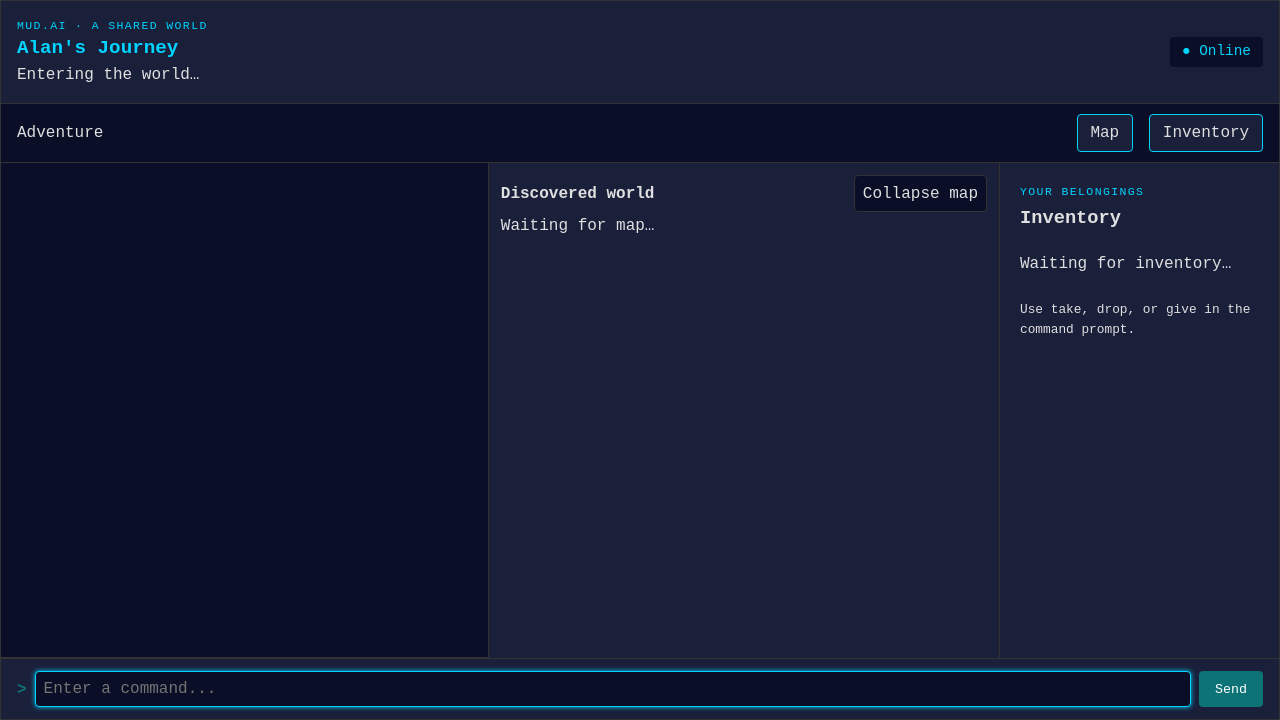
Test: Terminal › toggles safe structured debug output locally
Type "/debug on" into the field with test id "command-input" at [613, 689], box [35,671,1191,707]
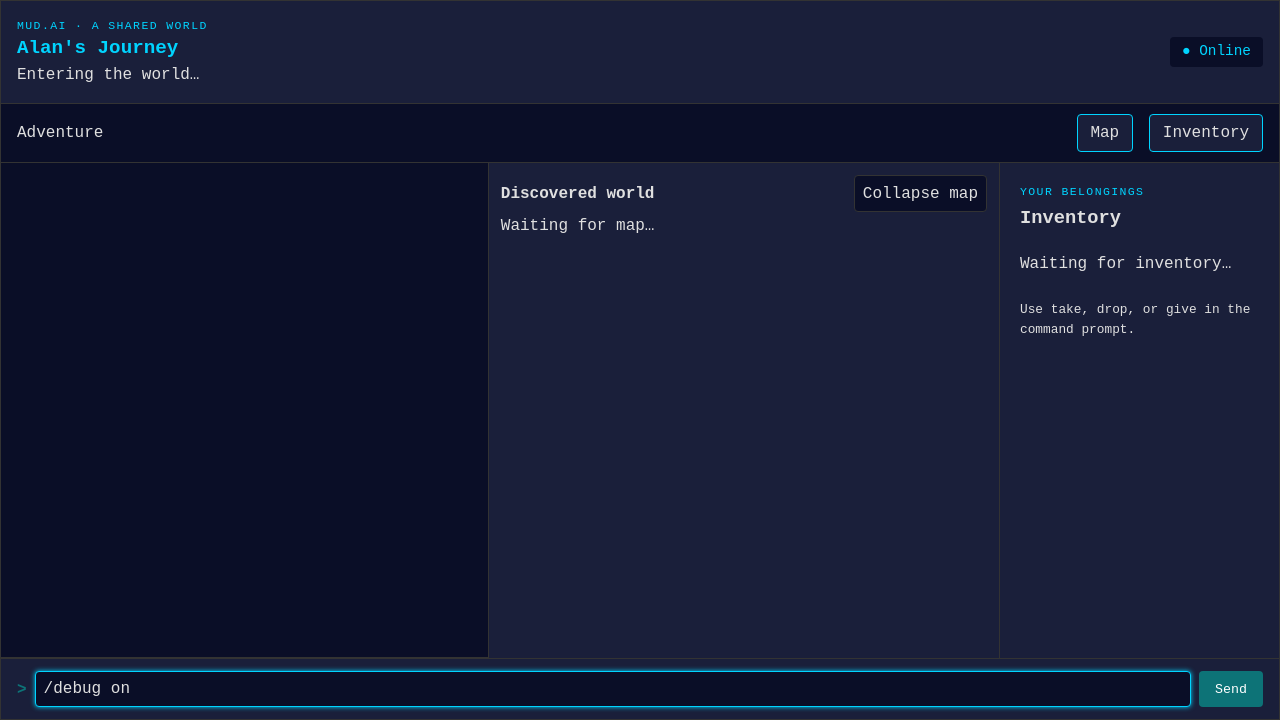
Submit the form with test id "command-input", box [1,658,1279,719]
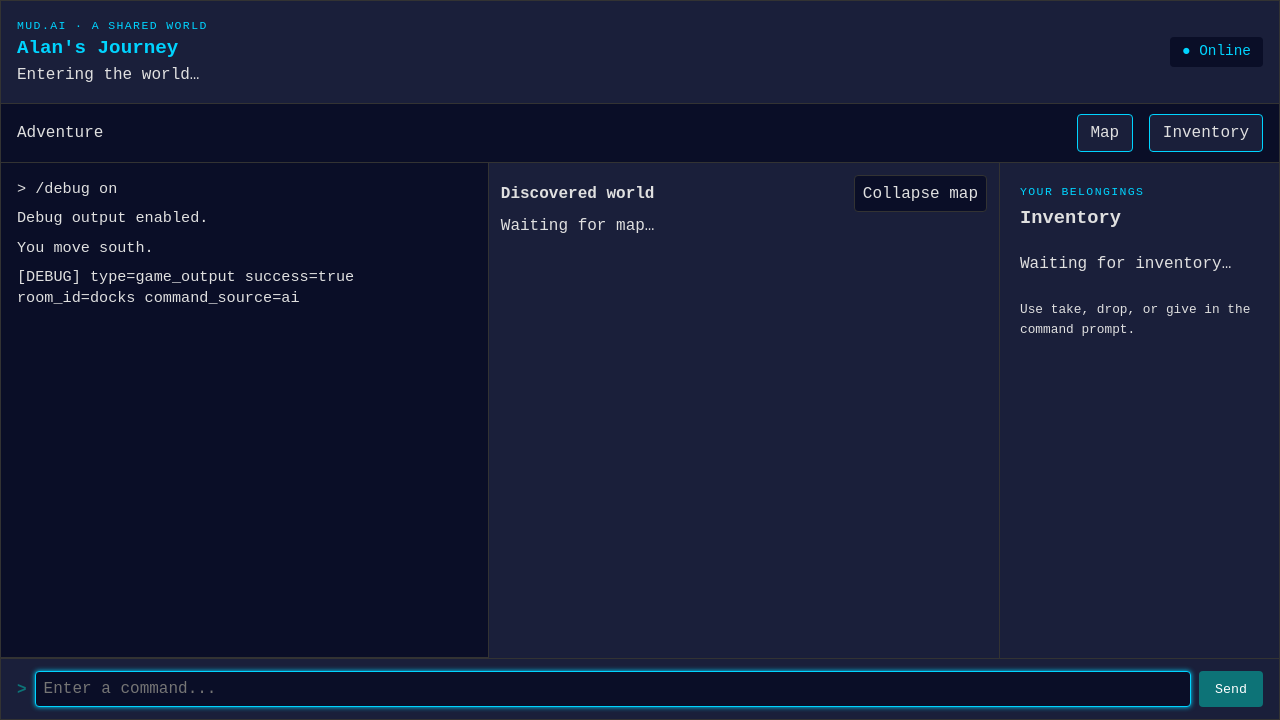
expect the text "Debug output enabled." is shown: met, box [17,209,208,227]
expect the text "[DEBUG] type=game_output success=true room_id=docks command_source=ai" is shown: met, box [17,268,363,307]
Type "/debug off" into the field with test id "command-input" at [613, 689], box [35,671,1191,707]
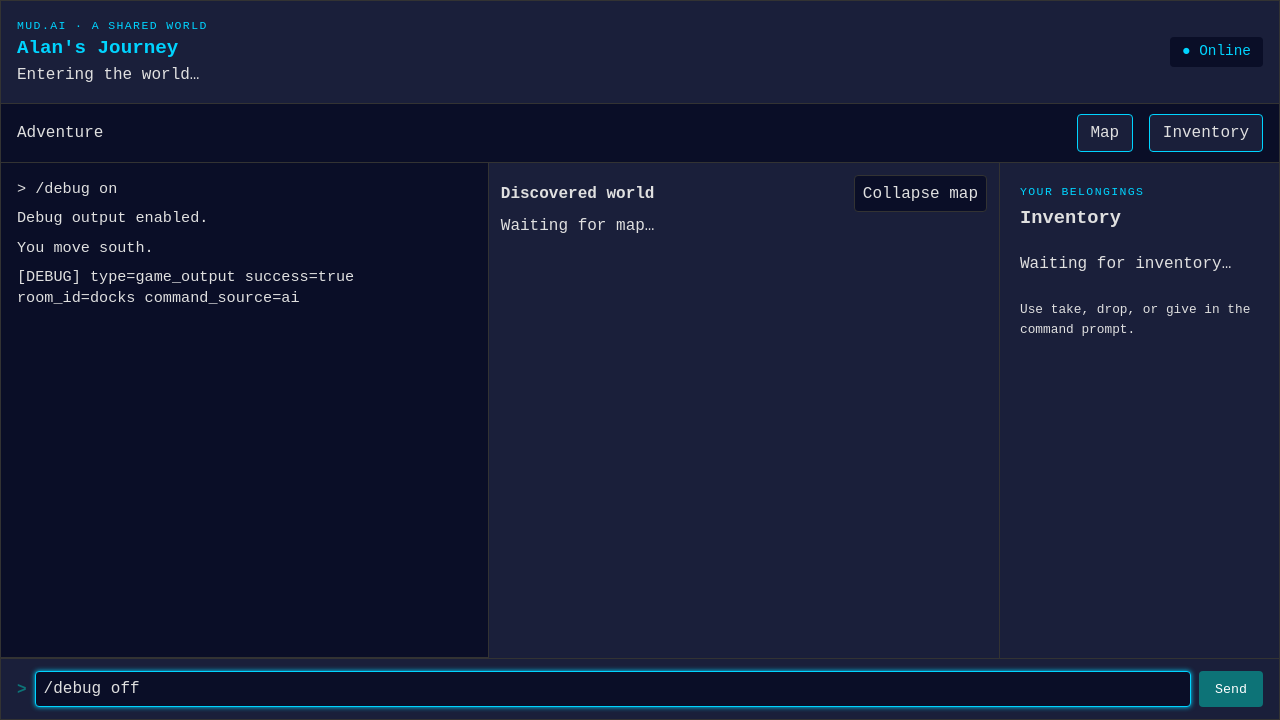
Submit the form with test id "command-input", box [1,658,1279,719]
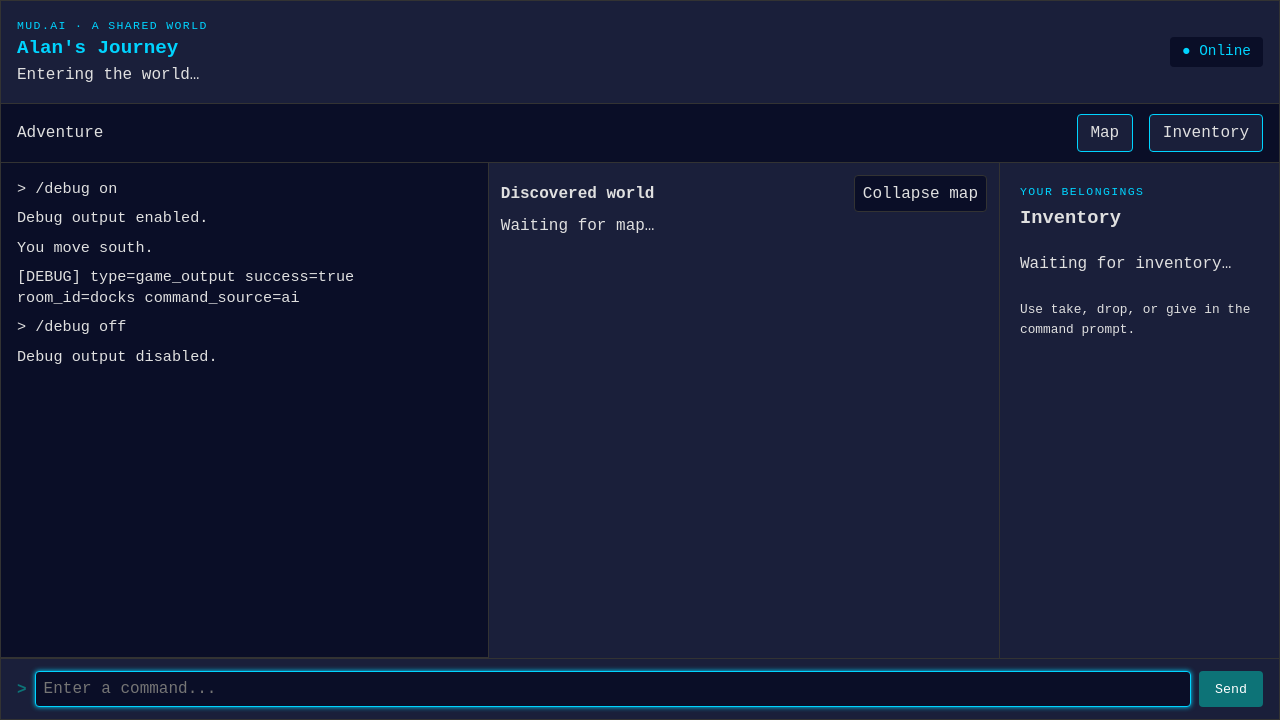
expect the text "Debug output disabled." is shown: met, box [17,348,218,366]
